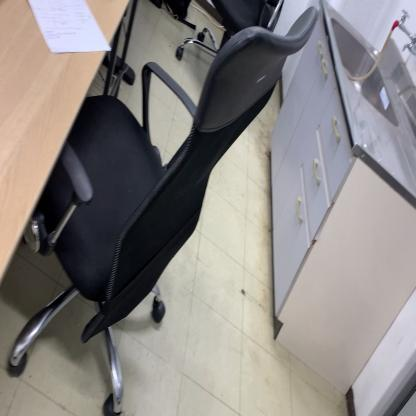chair: (7, 5, 322, 416), (176, 1, 288, 79)
